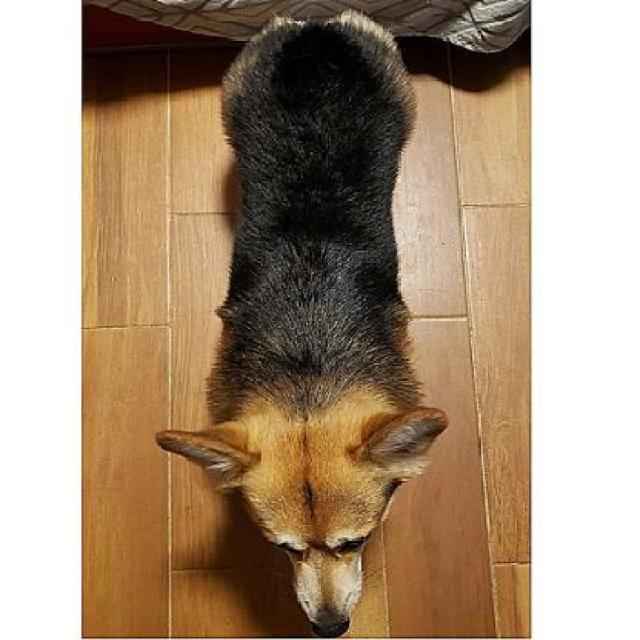Dog: (147, 7, 450, 638)
